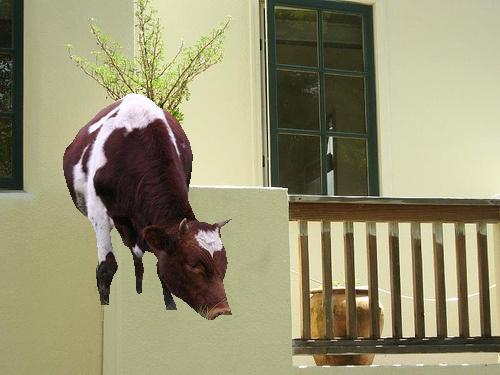tampered: (64, 94, 232, 320)
